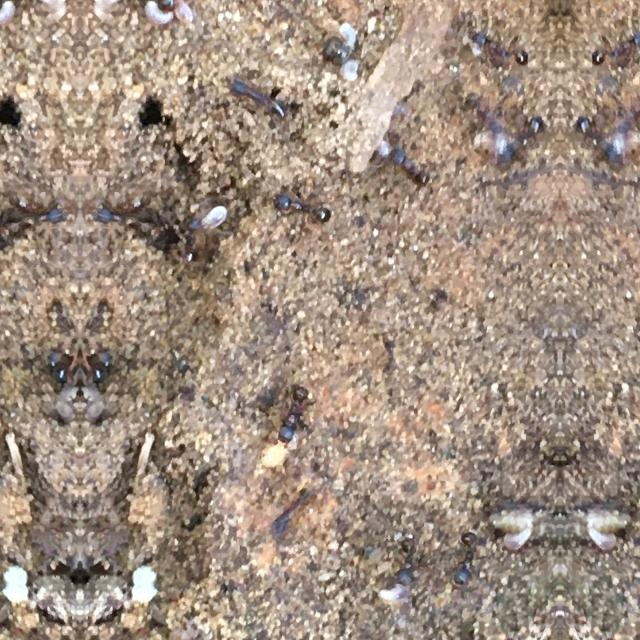Apheanogaster: (225, 64, 295, 128), (268, 370, 318, 452), (87, 186, 159, 242), (1, 186, 73, 242), (268, 180, 336, 238), (464, 22, 534, 76), (461, 82, 512, 146), (382, 134, 436, 192), (446, 520, 486, 596), (499, 109, 548, 170), (572, 109, 620, 170), (586, 22, 640, 76), (608, 82, 640, 146)
